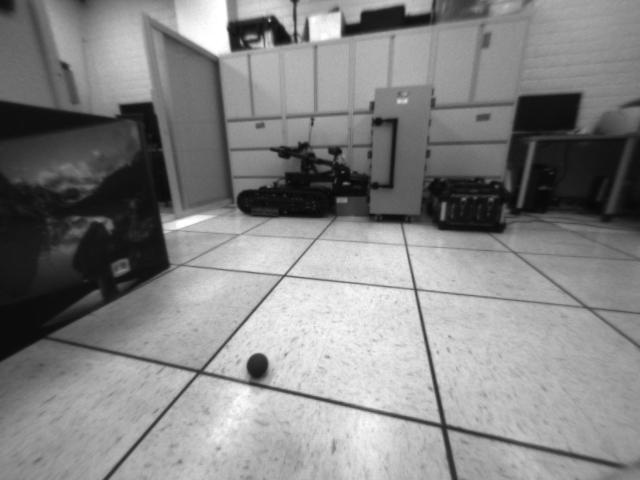dogtoy: (243, 347, 275, 383)
